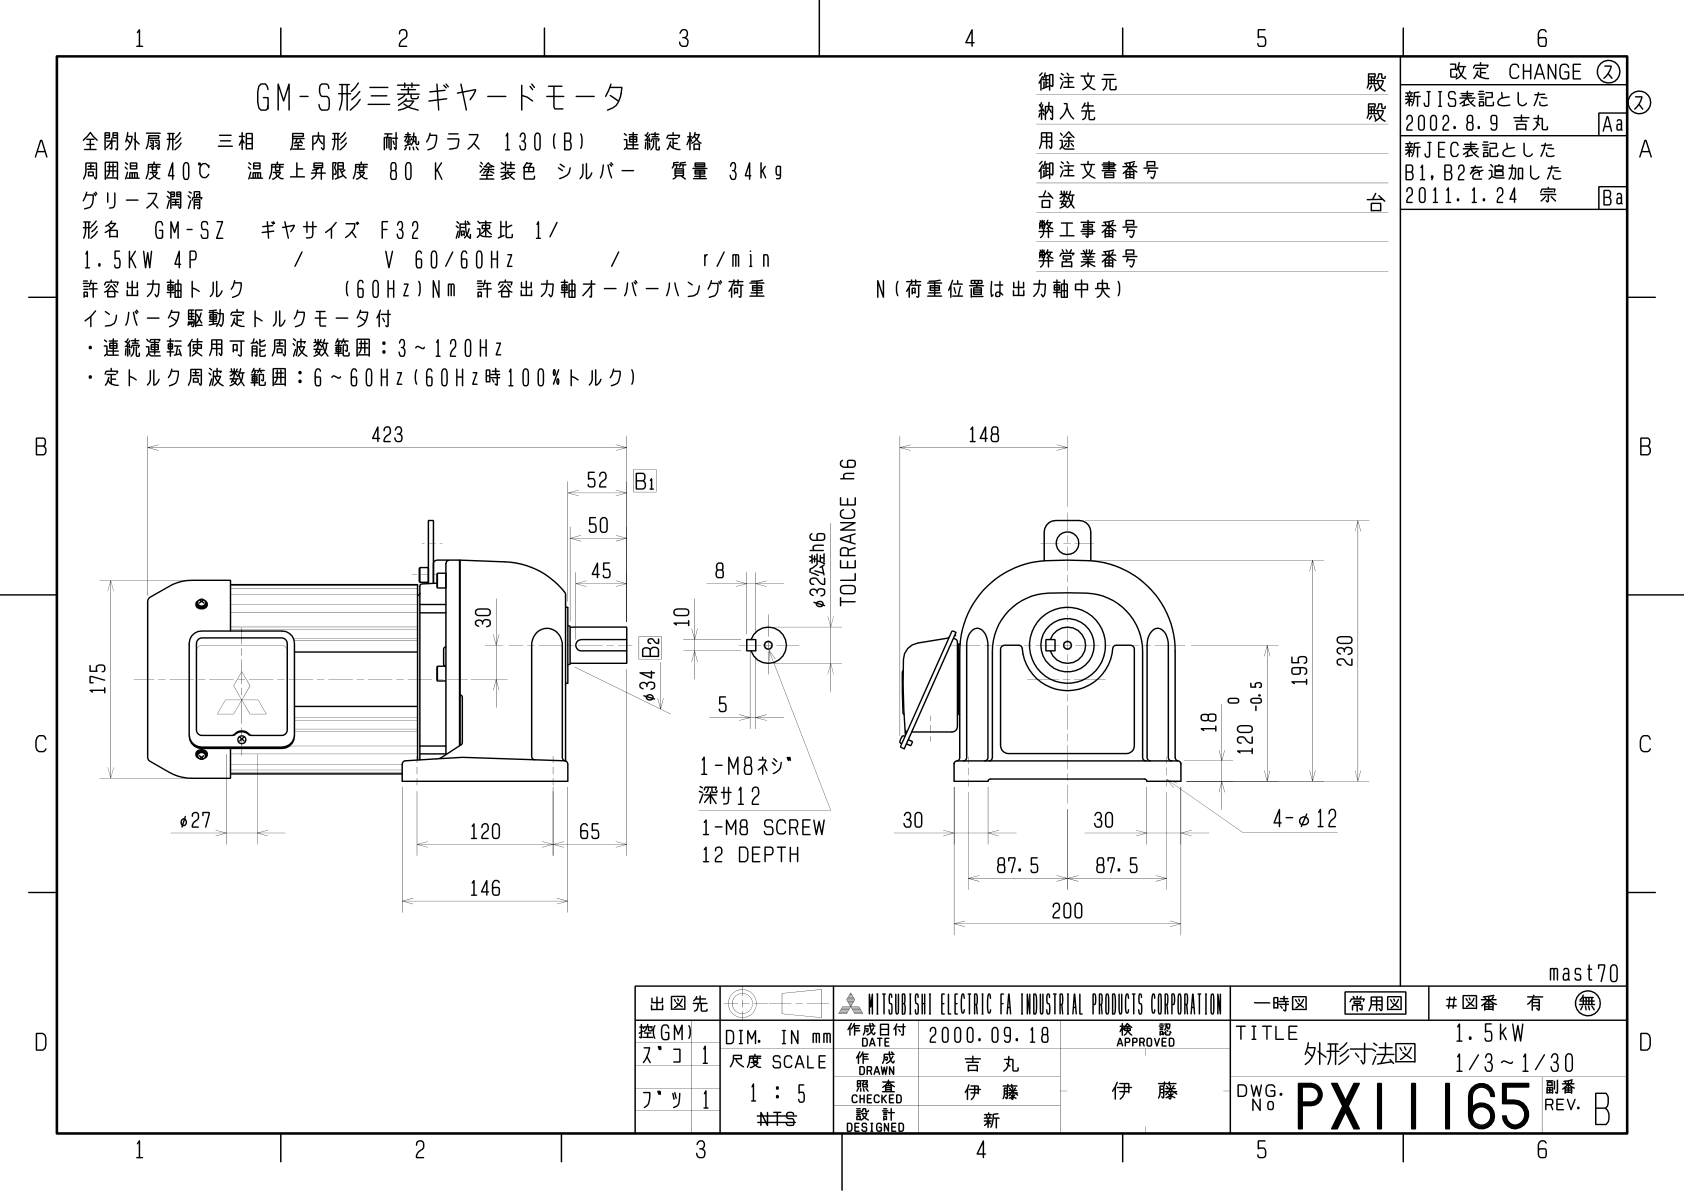GM_S_インバタ屋外＿三相_脚: (75, 409, 1385, 963)
